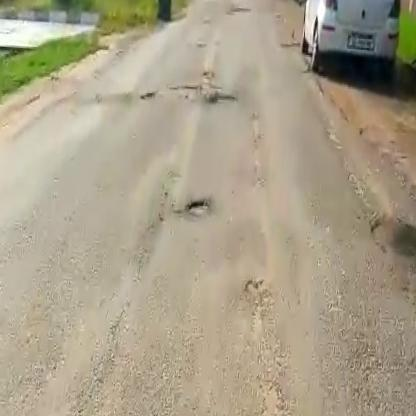pothole: (178, 194, 213, 222)
